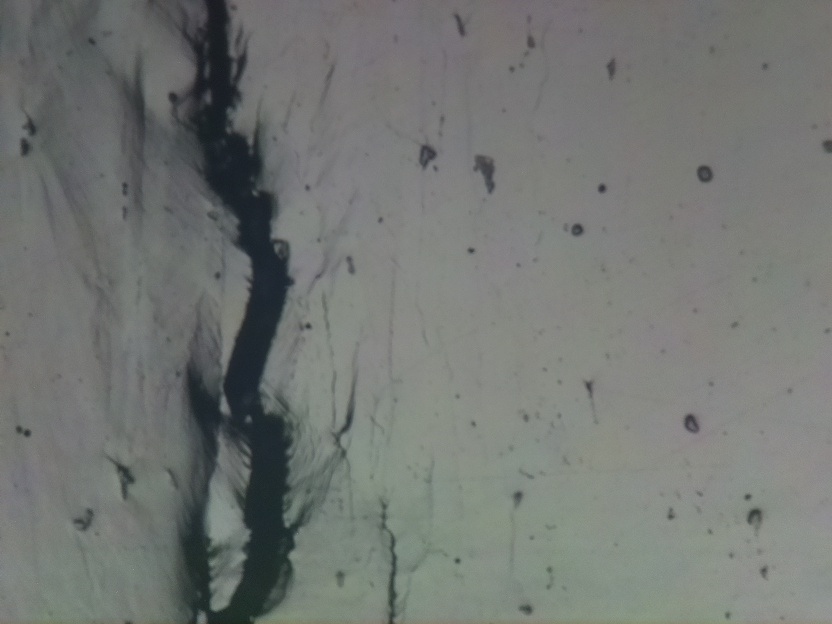crack: (177, 0, 298, 624), (378, 519, 412, 624)
